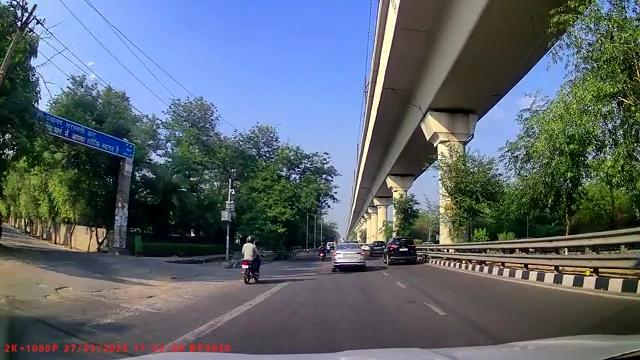motorcycle_with_helmet: (241, 235, 261, 285)
